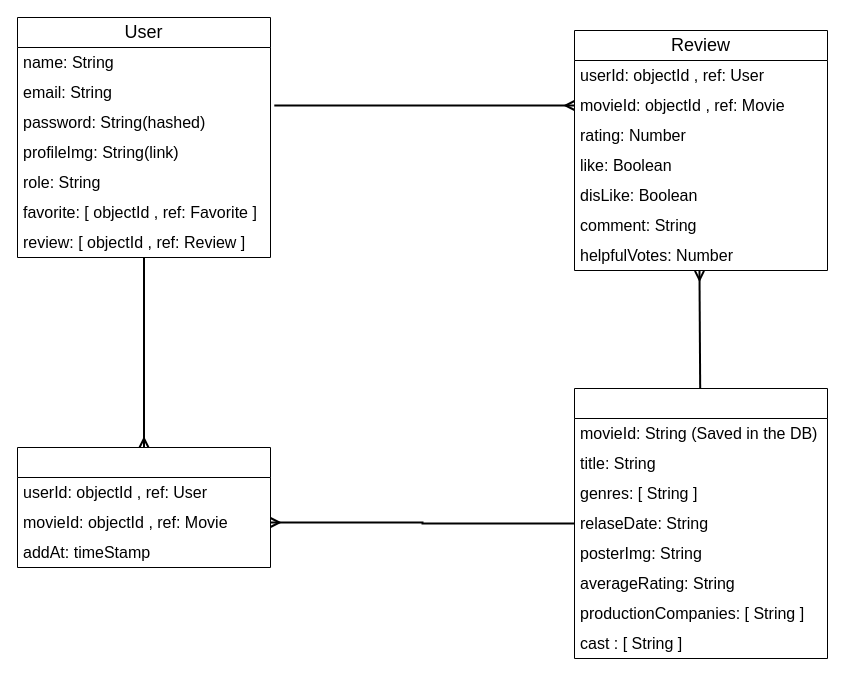
The diagram is 845 pixels wide and 676 high, and some of its shapes have lost their labels. Each missing label, with the box of its shape:
Favorite: (16, 446, 270, 568)
Movie (Api): (574, 388, 828, 658)
